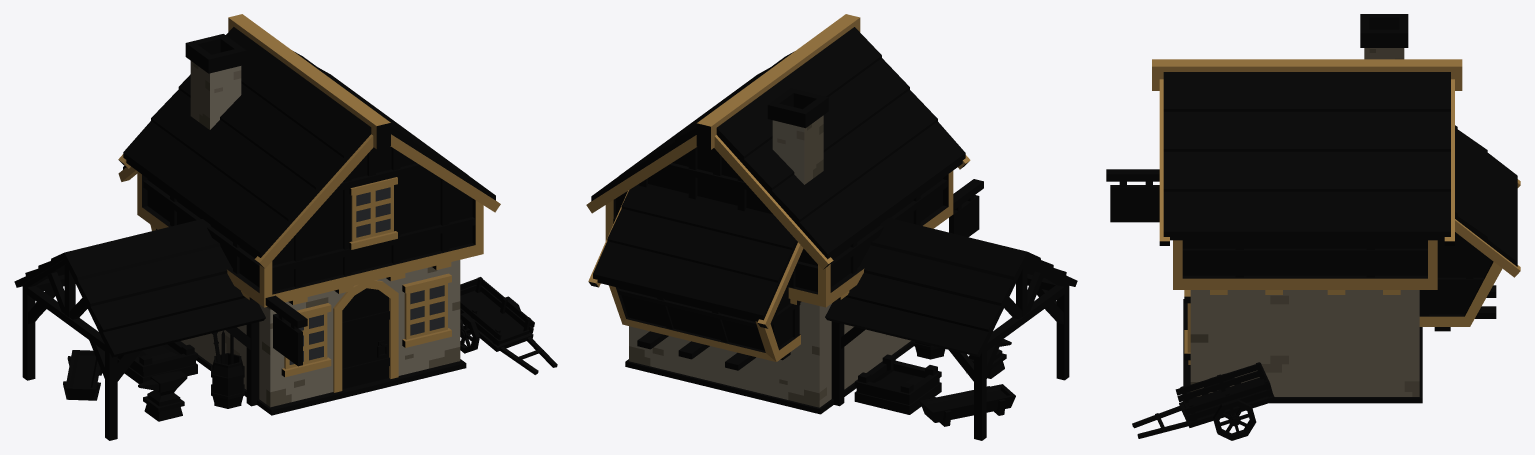
The model's file is House_Blacksmith.gltf.
3 renders of one model, left to right at view 1: azimuth 30°, elevation 25°; view 2: azimuth 150°, elevation 25°; view 3: azimuth 270°, elevation 25°, orthographic. The views are drawn at different scales.
Visible parts, largest first — view 1: SF_Bld_House_Blacksmith_01; view 2: SF_Bld_House_Blacksmith_01; view 3: SF_Bld_House_Blacksmith_01.
Part boxes in pixels (x1=…): SF_Bld_House_Blacksmith_01: x1=14, y1=14, x2=557, y2=440; SF_Bld_House_Blacksmith_01: x1=586, y1=14, x2=1077, y2=440; SF_Bld_House_Blacksmith_01: x1=1106, y1=14, x2=1520, y2=440.
Bounding box in the file's own units: 0.1717 × 0.1144 × 0.1417.
Materials: 1 (1 with a texture image).
